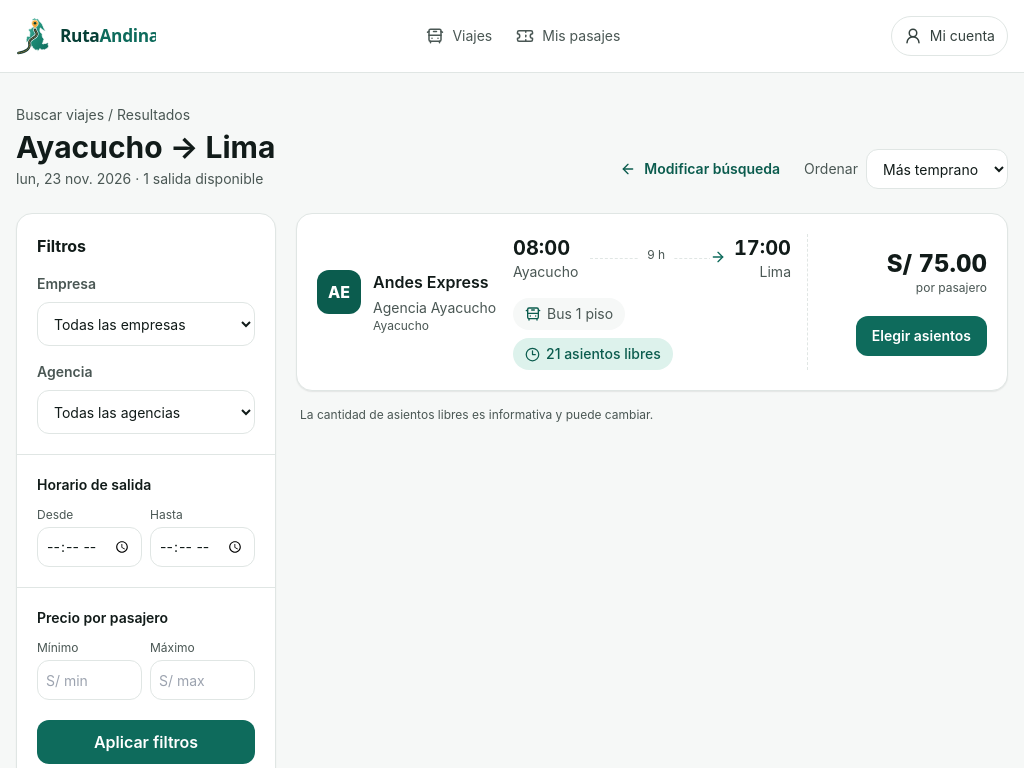
Scenario: passenger trip search screens › submits agency, departure-time, and fare filters to the search API
Expected: the heading "Andes Express" is shown, [373,270,496,294]
Select "Agencia Ayacucho" in the dropdown labelled "Agencia" at (146, 412), box [37,390,255,434]
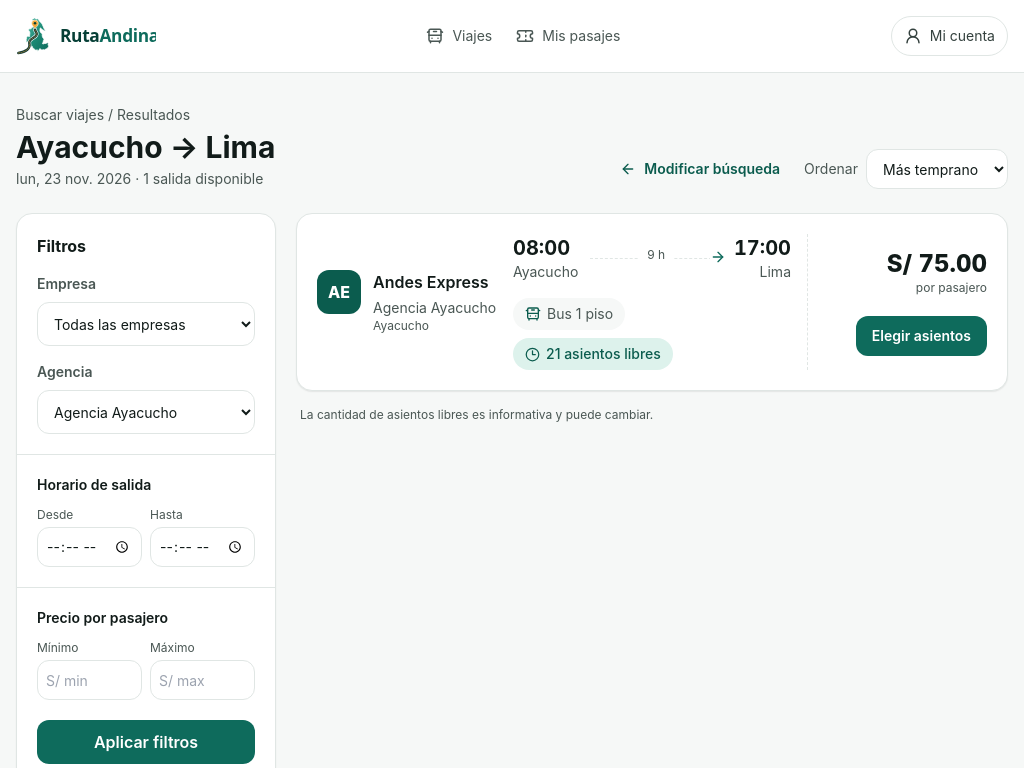
Type "08:00" into the time field named "Salida desde" at (90, 547), box [37,527,142,567]
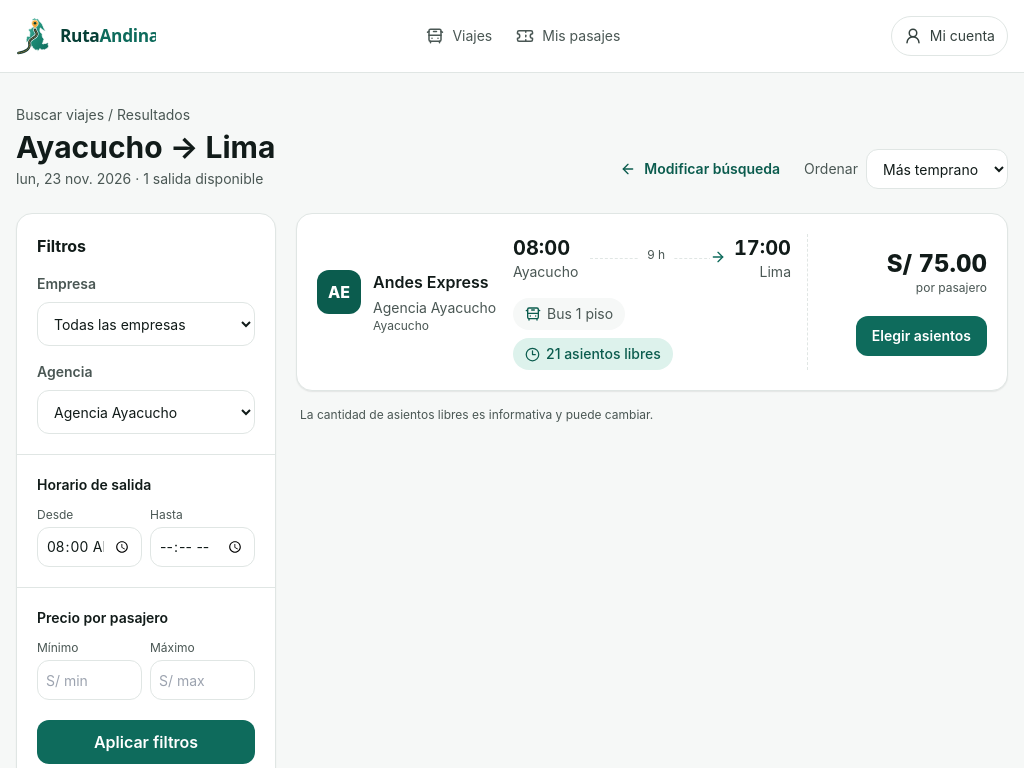
Type "50" into the number field named "Precio mínimo" at (90, 680), box [37,660,142,700]
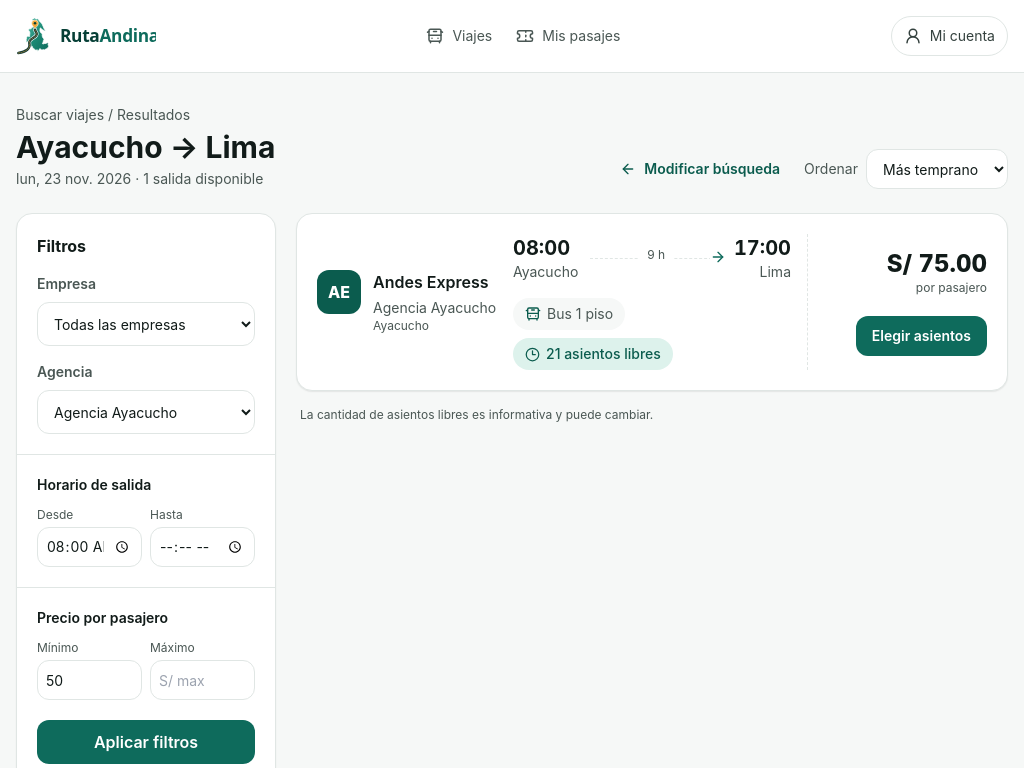
Click the button "Aplicar filtros" at (146, 742), box [37,720,255,764]
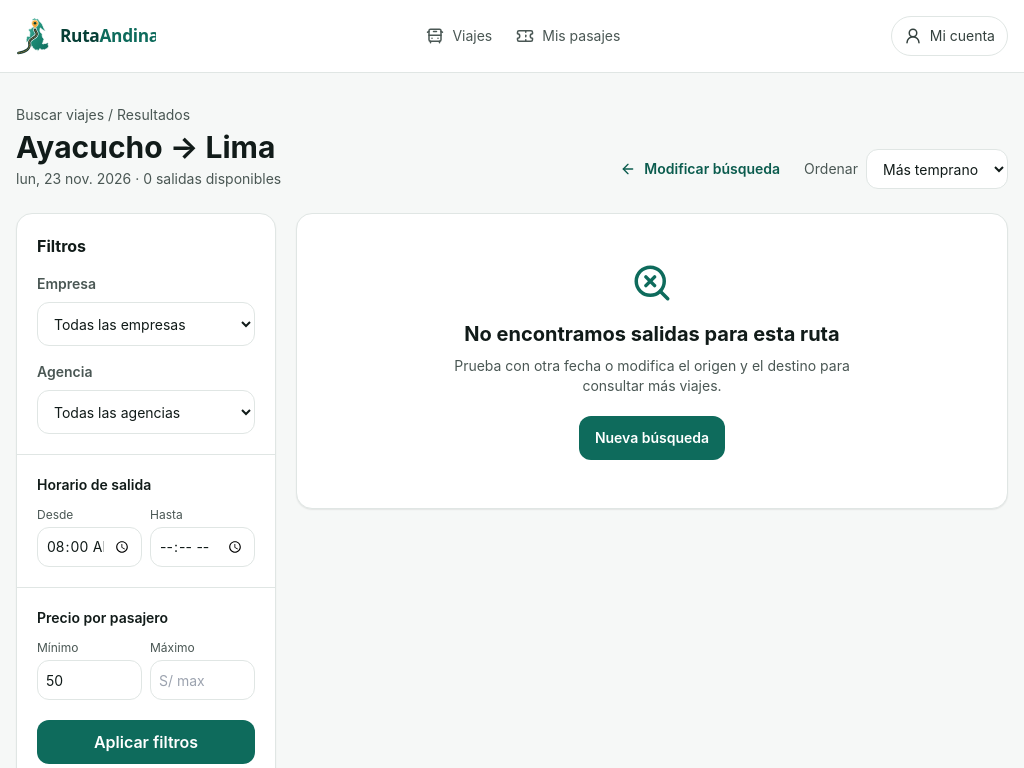
Expected: the heading "No encontramos salidas para esta ruta" is shown, [464,322,840,346]
